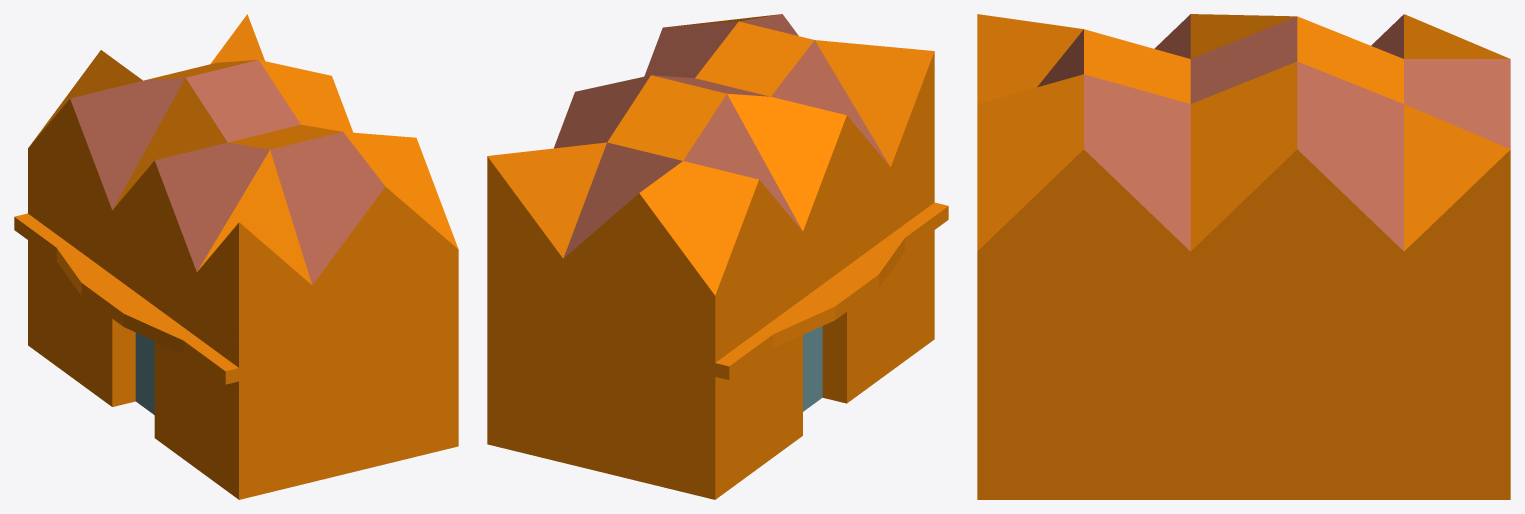
The model's file is fun.fbx.
3 views of the same model, side by side, from view 1: azimuth 30°, elevation 25°; view 2: azimuth 150°, elevation 25°; view 3: azimuth 270°, elevation 25° (orthographic). The views are drawn at different scales.
Visible parts, largest first — view 1: building2; view 2: building2; view 3: building2.
Boxes of the visible parts, <box> form: building2: <box>14,14,458,499</box>; building2: <box>487,14,948,499</box>; building2: <box>977,14,1510,499</box>.
Size of the model in its own units: 1091 by 1298 by 1595.
